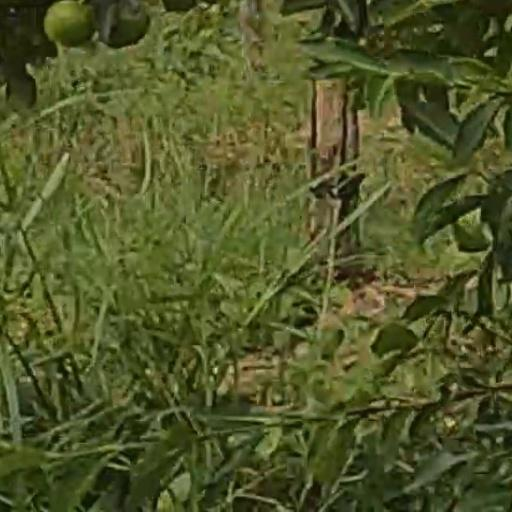acerola: (44, 1, 92, 43), (105, 4, 146, 46)
